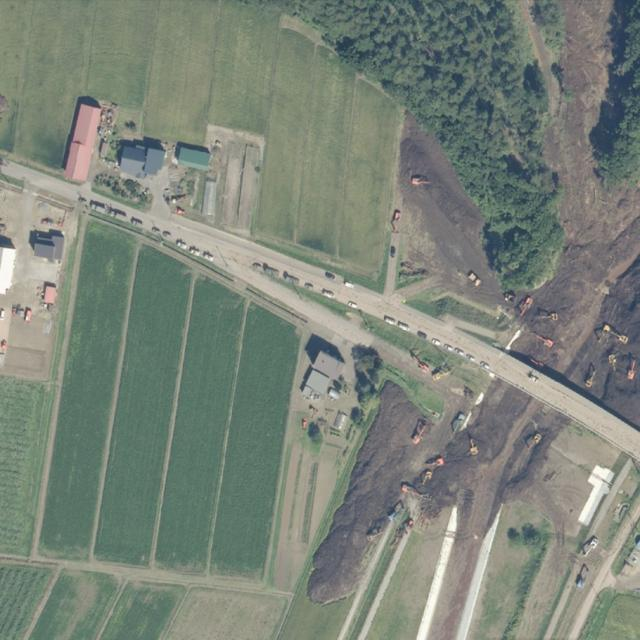landslide: (309, 380, 561, 639), (514, 0, 640, 419), (399, 113, 501, 305)
